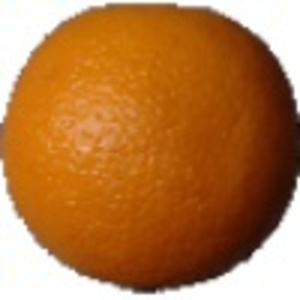laranja: (2, 4, 297, 296)
